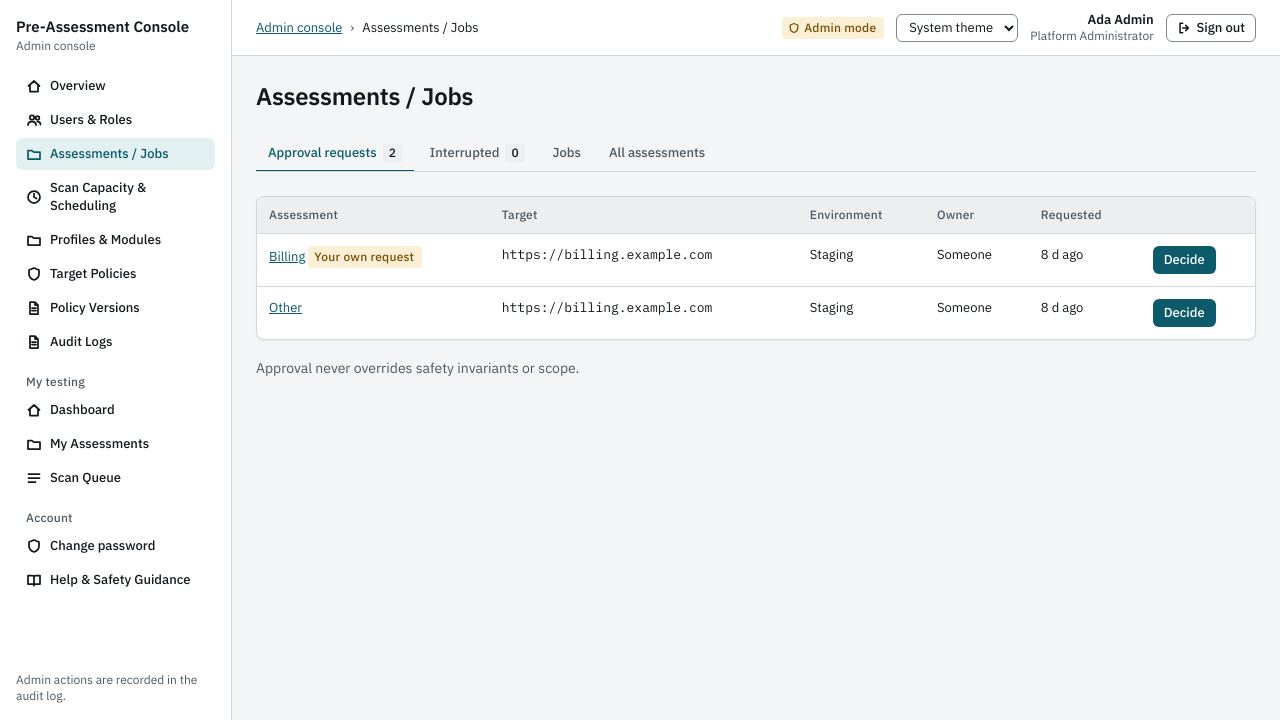
Test case: approvals: own request shows the self-approval banner; others do not
Expected: the text "Your own request" is shown, [308,246,422,268]
Step 1. Click the button with aria-label "Decide on Billing" → (1184, 260), box [1153,246,1216,274]
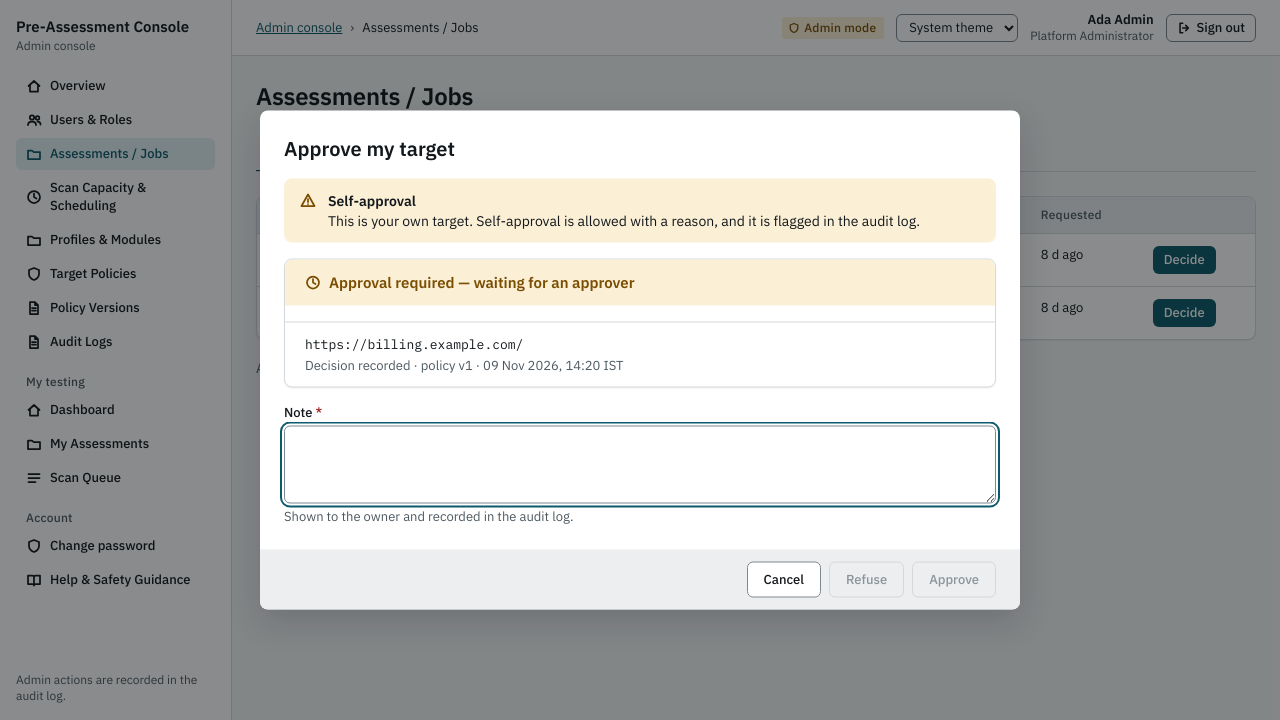
Expected: the text "This is your own target" is shown, [328,212,920,230]
Step 2. Click the button "Cancel" → (784, 580), box [747,562,821,598]
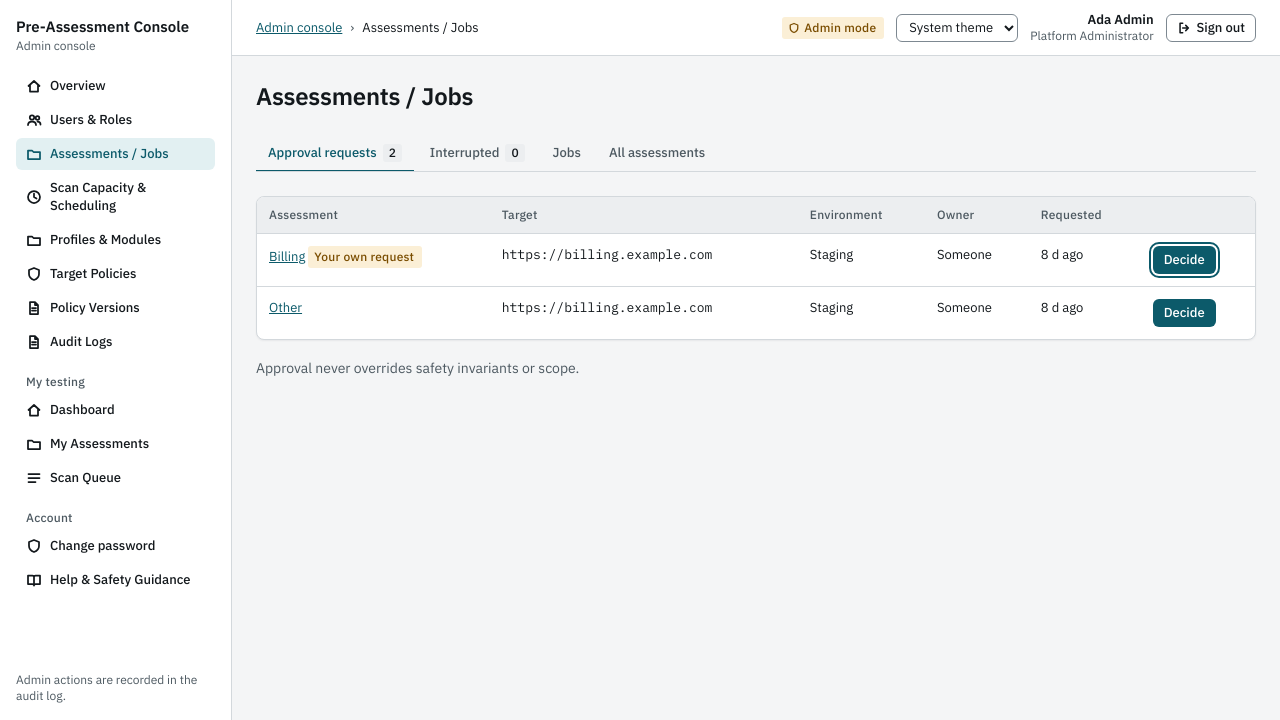
Step 3. Click the button with aria-label "Decide on Other" → (1184, 313), box [1153,299,1216,327]
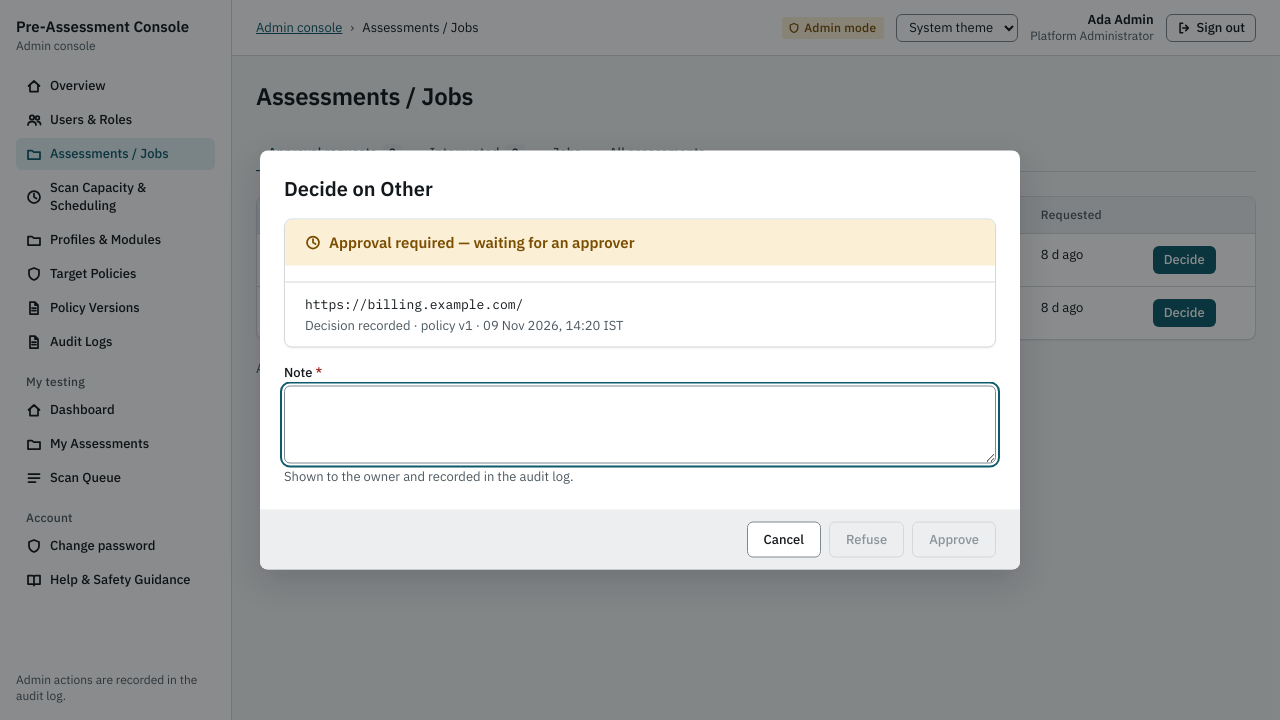
Expected: the text "This is your own target" is not shown
Expected: the dialog is shown, [260,150,1020,570]
